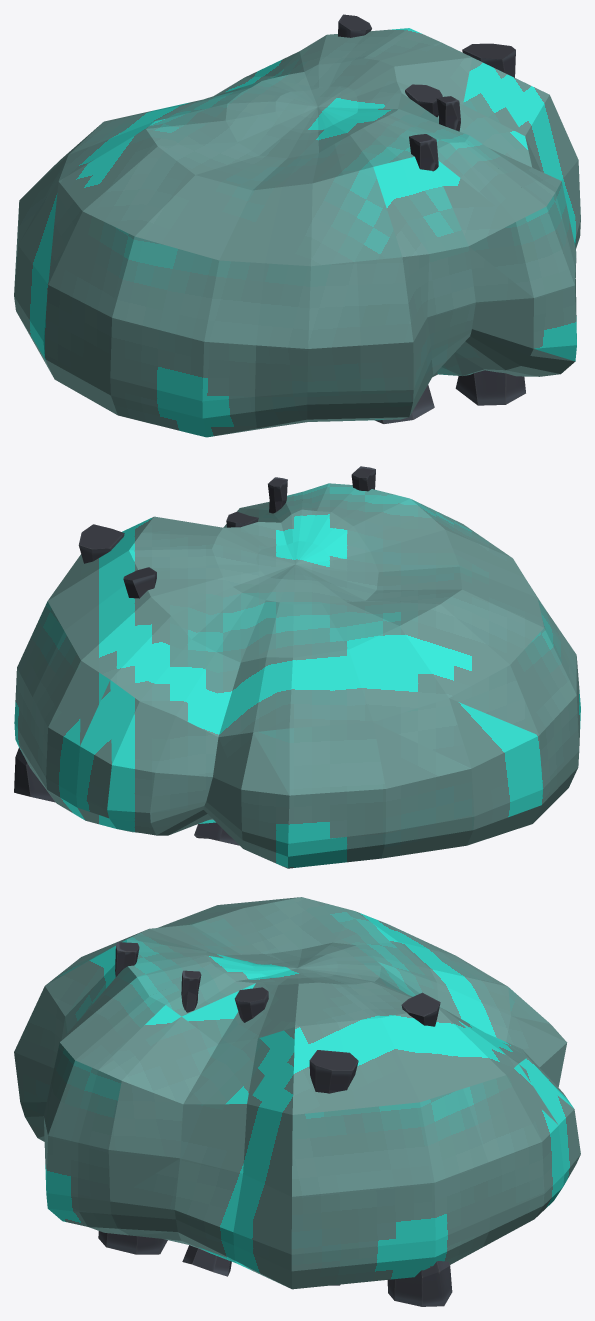
File: dungeonBackgroundMid.glb
3 renders of one model, top to bottom at view 1: azimuth 30°, elevation 25°; view 2: azimuth 150°, elevation 25°; view 3: azimuth 270°, elevation 25°, orthographic. The views are drawn at different scales.
Parts seen in each view (by area): view 1: Cube.018, Stal04, Broken_Stal_Broken_Stal_0.001, Stal03_Stal03_0.001, Broken_Stal_Broken_Stal_0.002, Stal03, Stal01_Stal01_0.001; view 2: Cube.018, Broken_Stal_Broken_Stal_0.001, Stal04_Stal04_0.002, Stal01_Stal01_0.001, Stal03, Stal02, Stal03_Stal03_0.001; view 3: Cube.018, Stal04_Stal04_0.002, Broken_Stal_Broken_Stal_0.001, Stal04, Stal01_Stal01_0.001, Broken_Stal_Broken_Stal_0.002, Stal01_Stal01_0.002, Stal03, Stal03_Stal03_0.001.
Part boxes in pixels (x1=…): Cube.018: x1=14, y1=28, x2=580, y2=437; Stal04: x1=455, y1=370, x2=525, y2=405; Broken_Stal_Broken_Stal_0.001: x1=462, y1=43, x2=515, y2=77; Stal03_Stal03_0.001: x1=409, y1=134, x2=438, y2=171; Broken_Stal_Broken_Stal_0.002: x1=405, y1=84, x2=442, y2=117; Stal03: x1=436, y1=96, x2=460, y2=131; Stal01_Stal01_0.001: x1=338, y1=14, x2=371, y2=37; Cube.018: x1=14, y1=483, x2=580, y2=868; Broken_Stal_Broken_Stal_0.001: x1=78, y1=524, x2=124, y2=563; Stal04_Stal04_0.002: x1=14, y1=747, x2=55, y2=802; Stal01_Stal01_0.001: x1=123, y1=567, x2=156, y2=598; Stal03: x1=268, y1=477, x2=287, y2=513; Stal02: x1=194, y1=822, x2=239, y2=845; Stal03_Stal03_0.001: x1=351, y1=466, x2=375, y2=491; Cube.018: x1=14, y1=897, x2=580, y2=1289; Stal04_Stal04_0.002: x1=387, y1=1261, x2=452, y2=1306; Broken_Stal_Broken_Stal_0.001: x1=309, y1=1050, x2=358, y2=1093; Stal04: x1=98, y1=1231, x2=167, y2=1254; Stal01_Stal01_0.001: x1=401, y1=992, x2=440, y2=1026; Broken_Stal_Broken_Stal_0.002: x1=234, y1=987, x2=268, y2=1022; Stal01_Stal01_0.002: x1=182, y1=1245, x2=231, y2=1276; Stal03: x1=181, y1=970, x2=201, y2=1012; Stal03_Stal03_0.001: x1=115, y1=942, x2=139, y2=977.
Bounding box in the file's own units: 52.65 × 26.88 × 51.07.
Materials: 8 (8 with a texture image).
